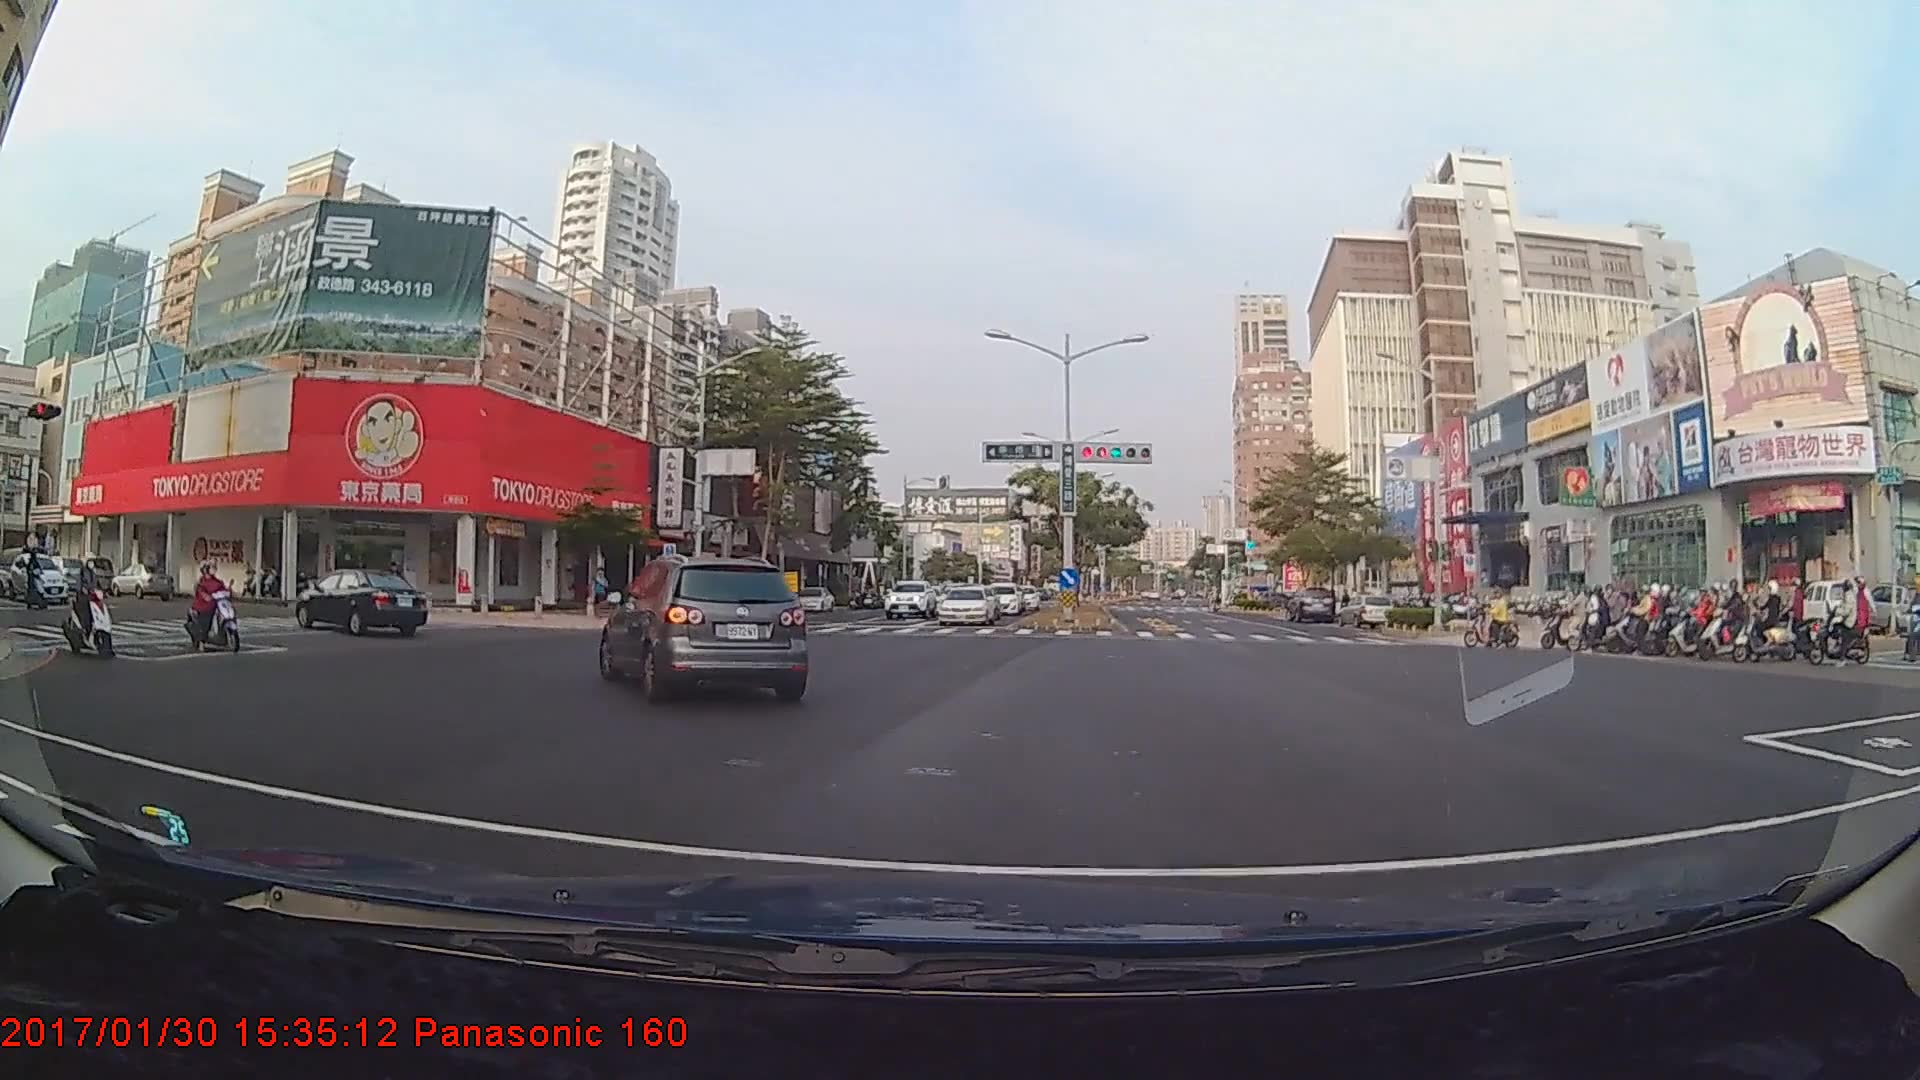rider: (1803, 578, 1873, 668), (60, 555, 120, 660), (181, 562, 244, 655), (1702, 584, 1772, 662), (1697, 584, 1757, 659), (1556, 594, 1629, 654), (1460, 585, 1522, 651), (1612, 586, 1668, 655), (1630, 591, 1677, 656)
vehicle: (597, 552, 809, 702), (295, 567, 430, 637), (7, 553, 67, 603), (935, 588, 997, 629), (39, 555, 98, 593), (881, 580, 937, 619), (1282, 586, 1333, 621), (981, 580, 1022, 616)
